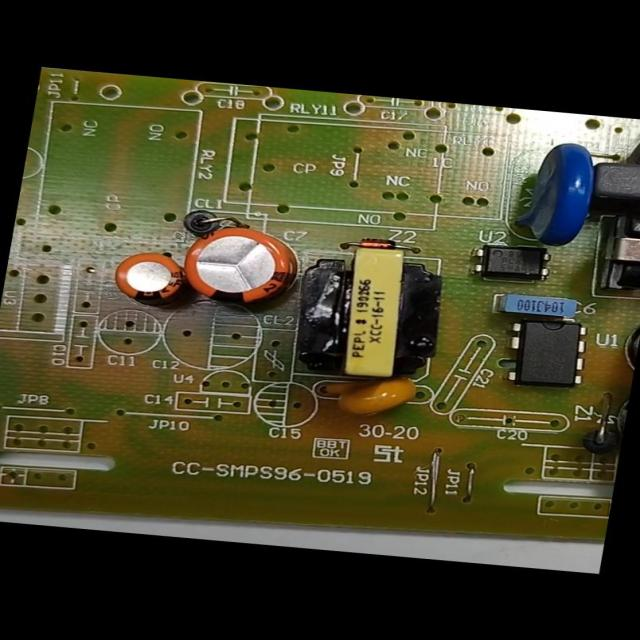Cap1: (177, 216, 319, 334)
Cap2: (97, 243, 197, 314)
MOSFET: (495, 304, 595, 397), (621, 128, 622, 131)
Mov: (501, 129, 609, 253)
Resistor: (613, 117, 639, 173)
Transformer: (278, 224, 460, 387), (583, 198, 639, 308)
